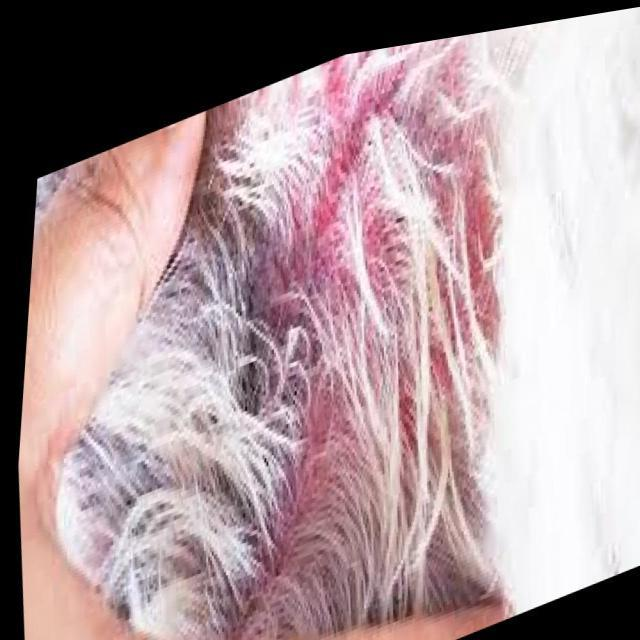allergic dermatitis: (211, 57, 496, 623)
